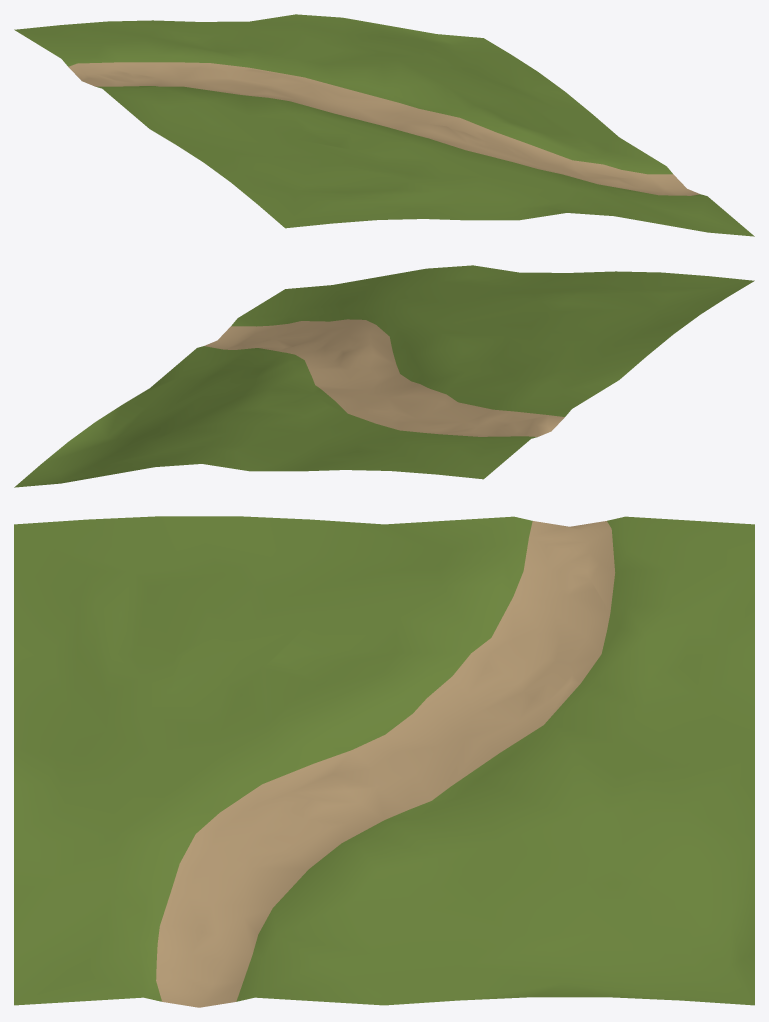
File: rpgpp_ag_terrain_path_07_20x20m_slope_2-3m.fbx
The picture shows the model from 3 angles, top to bottom: view 1: azimuth 30°, elevation 25°; view 2: azimuth 150°, elevation 25°; view 3: azimuth 270°, elevation 25°; orthographic projection. The views are drawn at different scales.
Visible parts, largest first — view 1: rpgpp_ag_terrain_path_07_20x20m_slope_2-3m; view 2: rpgpp_ag_terrain_path_07_20x20m_slope_2-3m; view 3: rpgpp_ag_terrain_path_07_20x20m_slope_2-3m.
Part boxes in pixels (<box>): rpgpp_ag_terrain_path_07_20x20m_slope_2-3m: <box>14,14,754,236</box>; rpgpp_ag_terrain_path_07_20x20m_slope_2-3m: <box>14,265,754,487</box>; rpgpp_ag_terrain_path_07_20x20m_slope_2-3m: <box>14,516,754,1007</box>.
Bounding box in the file's own units: 20 × 5.32 × 20.
